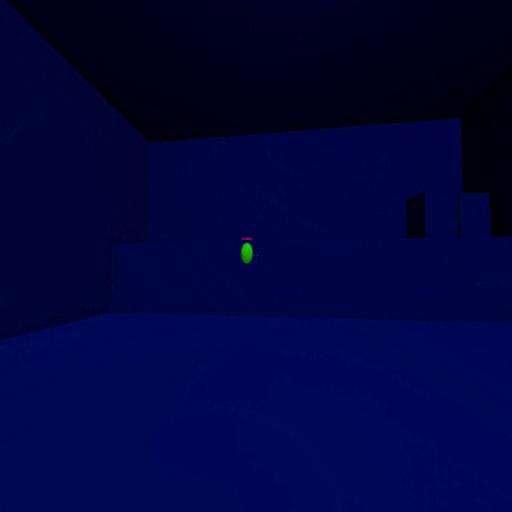Crosshair: (254, 252, 258, 260)
Target: (241, 242, 253, 265)
